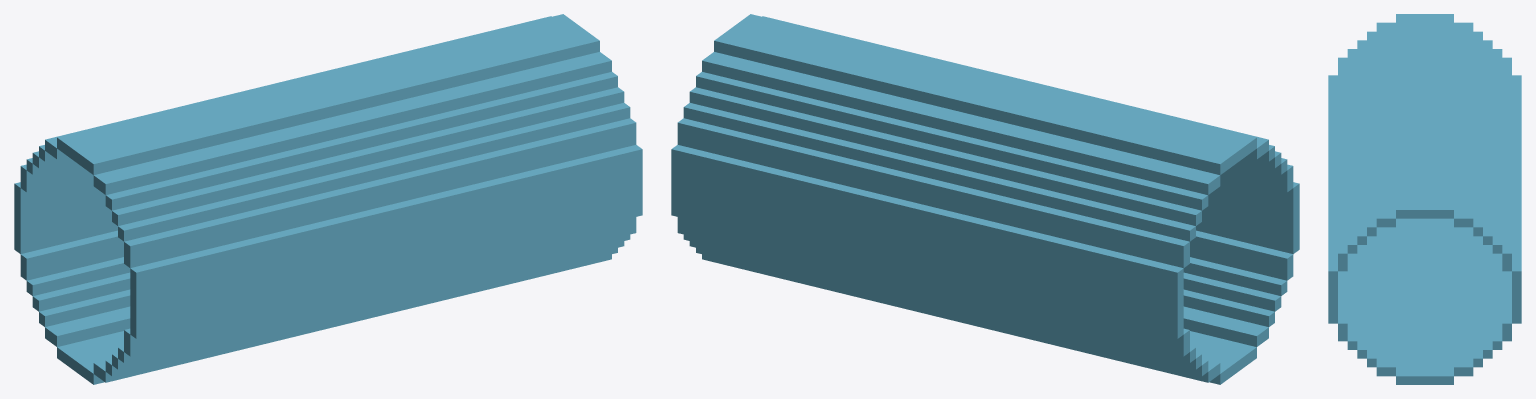
Rendered from Pipelength48.obj.
3 views of the same model, side by side, from view 1: azimuth 30°, elevation 25°; view 2: azimuth 150°, elevation 25°; view 3: azimuth 270°, elevation 25° (orthographic). The views are drawn at different scales.
Size of the model in its own units: 48 by 20 by 20.
1 material, 1 textured.
